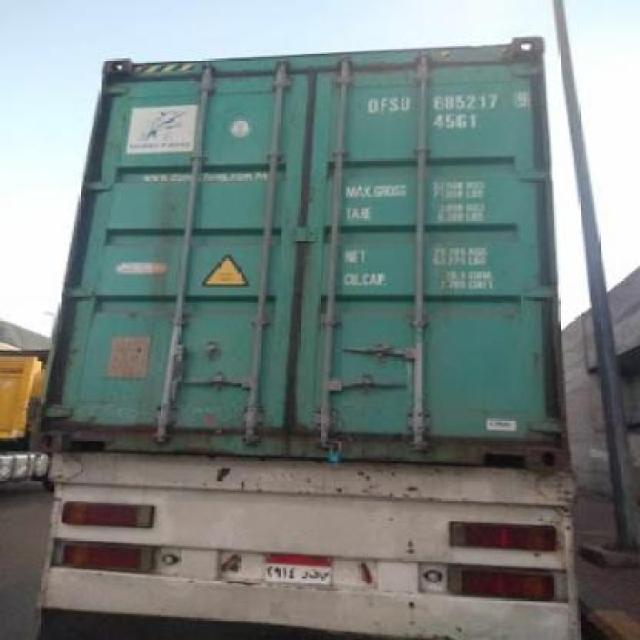ISO: (430, 116, 482, 134)
container_number: (366, 91, 526, 112)
